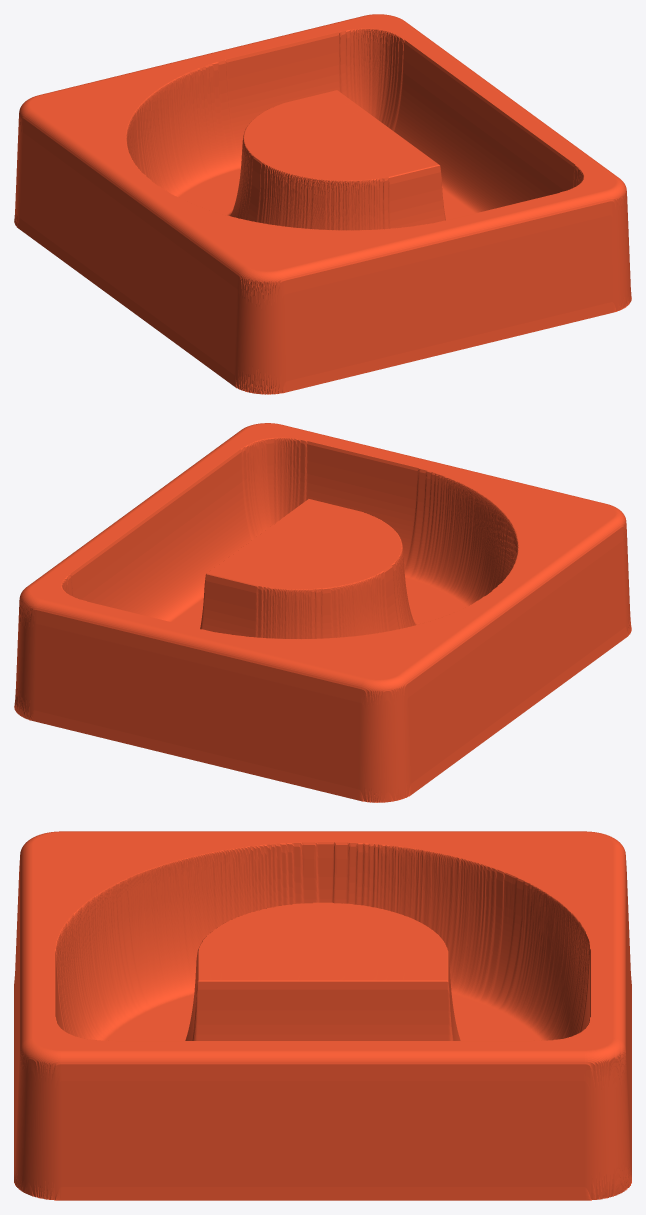
Rendered from mold.glb.
The picture shows the model from 3 angles, top to bottom: view 1: azimuth 30°, elevation 25°; view 2: azimuth 150°, elevation 25°; view 3: azimuth 270°, elevation 25°; orthographic projection. The views are drawn at different scales.
Visible parts, largest first — view 1: geometry_0; view 2: geometry_0; view 3: geometry_0.
Part boxes in pixels (x1,y1,x2,y2): geometry_0: [14, 14, 631, 394]; geometry_0: [14, 423, 631, 802]; geometry_0: [14, 831, 631, 1200].
Bounding box in the file's own units: 0.1054 × 0.0299 × 0.1178.
